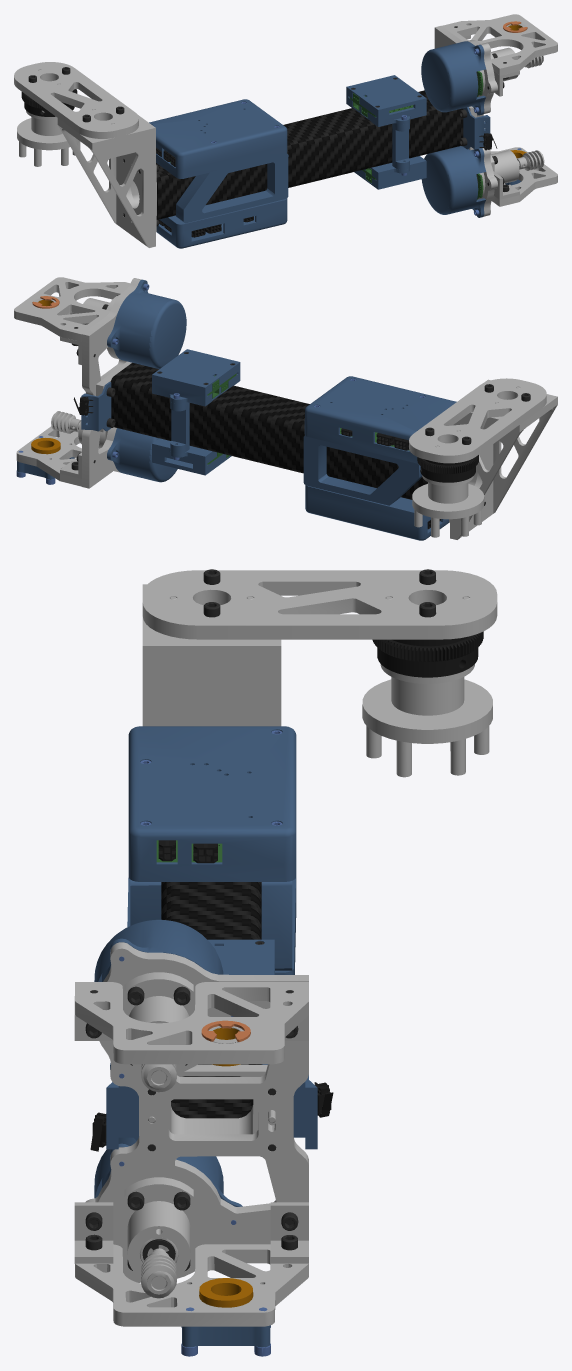
The model's file is arm_c.glb.
3 renders of one model, top to bottom at view 1: azimuth 30°, elevation 25°; view 2: azimuth 150°, elevation 25°; view 3: azimuth 270°, elevation 25°, orthographic. The views are drawn at different scales.
Parts seen in each view (by area): view 1: 109545_A;1-MRVR26.RA.SEG.CF_CDE_26; view 2: 109545_A;1-MRVR26.RA.SEG.CF_CDE_26; view 3: 109545_A;1-MRVR26.RA.SEG.CF_CDE_26.
Part boxes in pixels (x1=…): 109545_A;1-MRVR26.RA.SEG.CF_CDE_26: x1=14, y1=14, x2=557, y2=248; 109545_A;1-MRVR26.RA.SEG.CF_CDE_26: x1=14, y1=277, x2=557, y2=540; 109545_A;1-MRVR26.RA.SEG.CF_CDE_26: x1=74, y1=569, x2=497, y2=1356.
Bounding box in the file's own units: 43.84 × 15.9 × 17.4.
12 materials, 1 textured.
